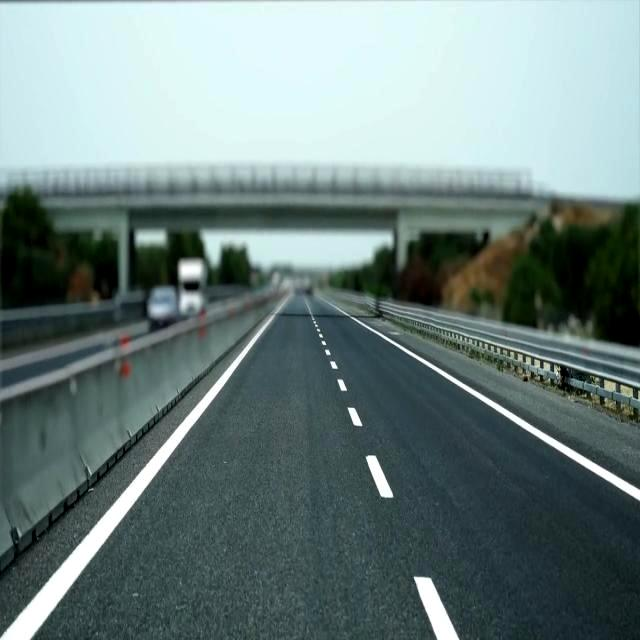lane: (0, 294, 292, 639), (352, 319, 640, 501), (414, 576, 459, 639), (367, 455, 392, 498)
road: (33, 295, 639, 639), (0, 349, 239, 631), (388, 333, 541, 426), (541, 417, 639, 486)
